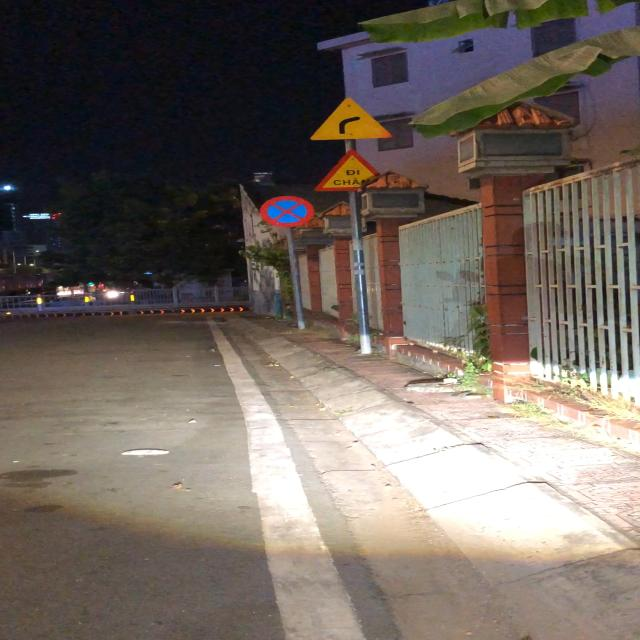Bien bao cam dung xe va do xe: (259, 196, 316, 228)
Bien bao cho ngoat nguy hiem: (308, 96, 392, 141)
Bien bao di cham: (312, 150, 390, 192)
